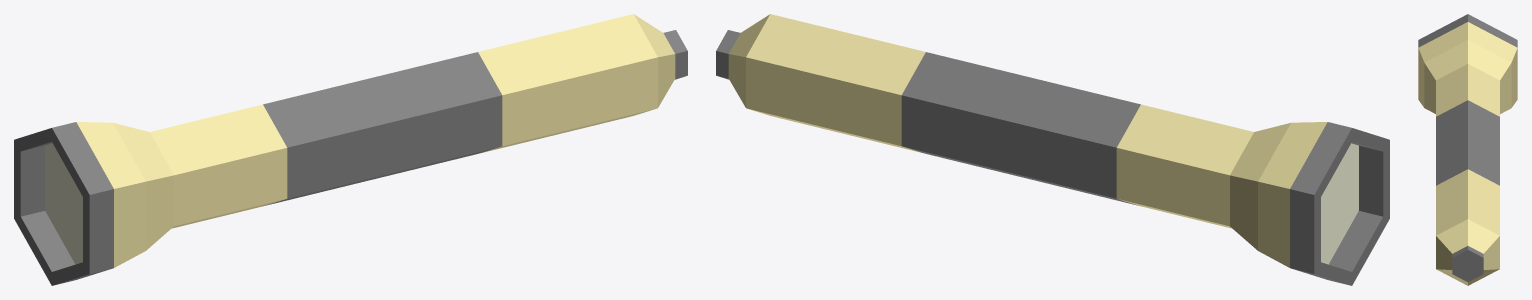
Rendered from Flashlight.fbx.
3 renders of one model, left to right at view 1: azimuth 30°, elevation 25°; view 2: azimuth 150°, elevation 25°; view 3: azimuth 270°, elevation 25°, orthographic. The views are drawn at different scales.
Parts seen in each view (by area): view 1: Flashlight; view 2: Flashlight; view 3: Flashlight.
Part boxes in pixels (x1,y1,x2,y2): Flashlight: [14, 14, 687, 285]; Flashlight: [716, 14, 1389, 285]; Flashlight: [1418, 14, 1517, 285].
Size of the model in its own units: 0.2565 by 0.0621 by 0.0538.
